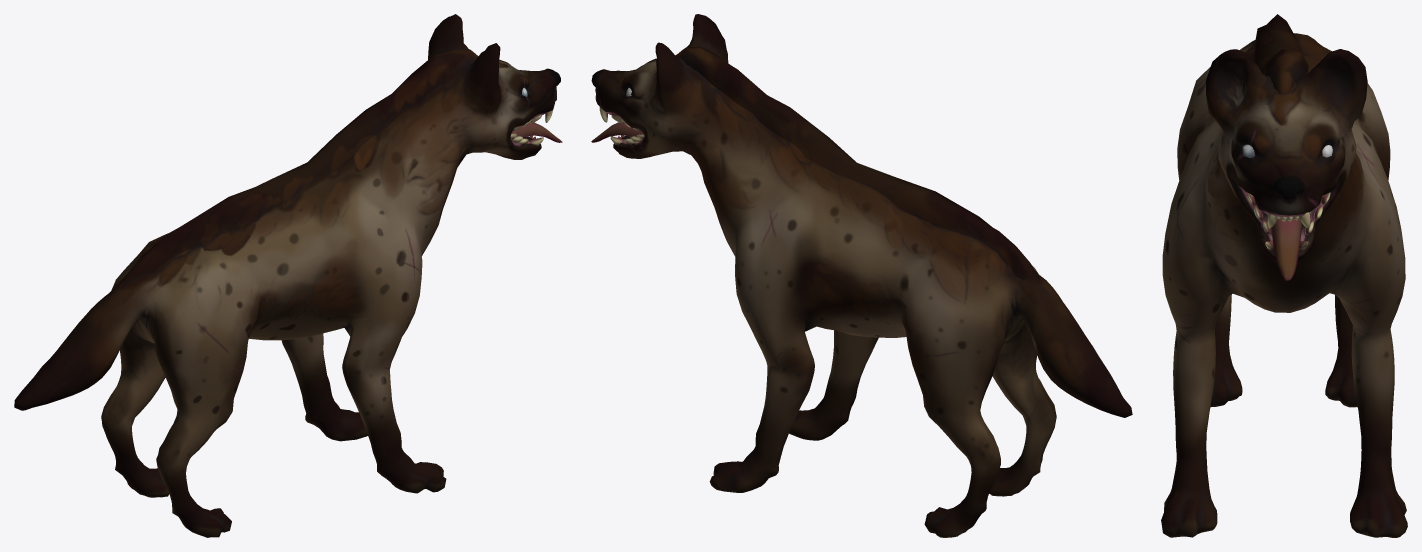
The model's file is Hyena_Low_Comp.fbx.
The picture shows the model from 3 angles, left to right: view 1: azimuth 30°, elevation 25°; view 2: azimuth 150°, elevation 25°; view 3: azimuth 270°, elevation 25°; orthographic projection. The views are drawn at different scales.
Parts seen in each view (by area): view 1: Hyena_body_low; view 2: Hyena_body_low; view 3: Hyena_body_low, Hyena_tongue_low, Hyena_teeth_low.
Part boxes in pixels (x1,y1,x2,y2): Hyena_body_low: (14, 14, 560, 537); Hyena_body_low: (591, 14, 1132, 537); Hyena_body_low: (1161, 14, 1407, 537); Hyena_tongue_low: (1271, 217, 1302, 281); Hyena_teeth_low: (1246, 192, 1330, 250).
Bounding box in the file's own units: 7.21 × 5.2 × 2.15.
